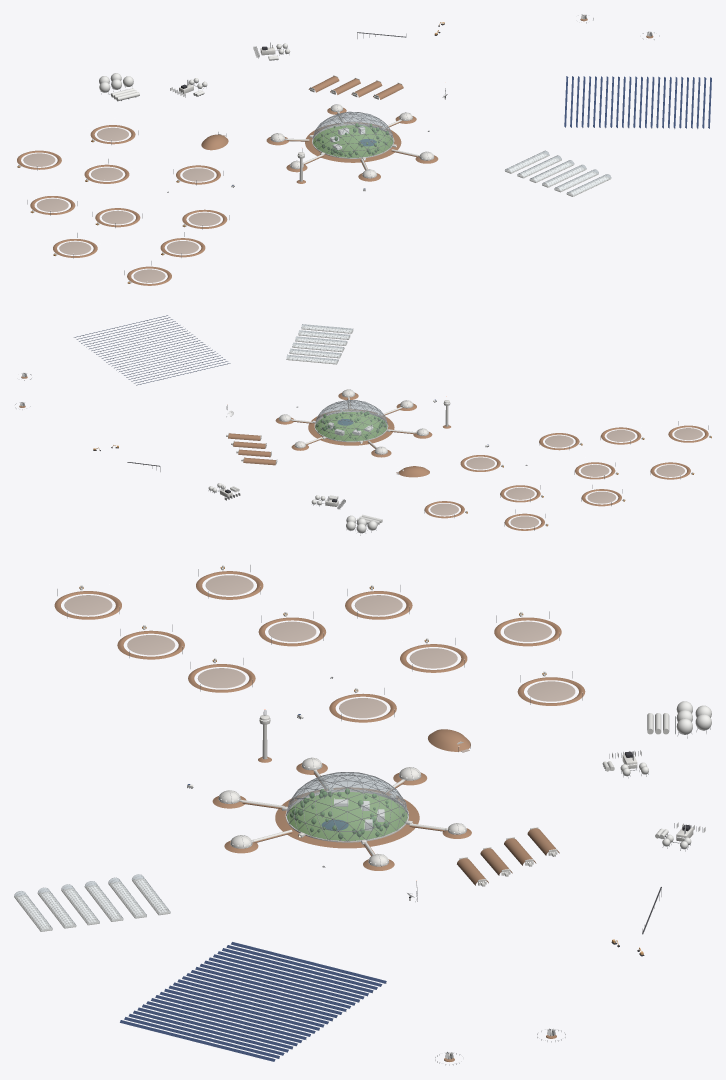
The model's file is marsbase.glb.
3 views of the same model, one above another, from view 1: azimuth 30°, elevation 25°; view 2: azimuth 150°, elevation 25°; view 3: azimuth 270°, elevation 25° (orthographic). The views are drawn at different scales.
Visible parts, largest first — view 1: marsbase; view 2: marsbase; view 3: marsbase.
Part boxes in pixels (x1,y1,x2,y2): marsbase: (14, 14, 711, 285); marsbase: (15, 315, 711, 535); marsbase: (14, 564, 711, 1065).
Bounding box in the file's own units: 1501 × 80.19 × 889.
